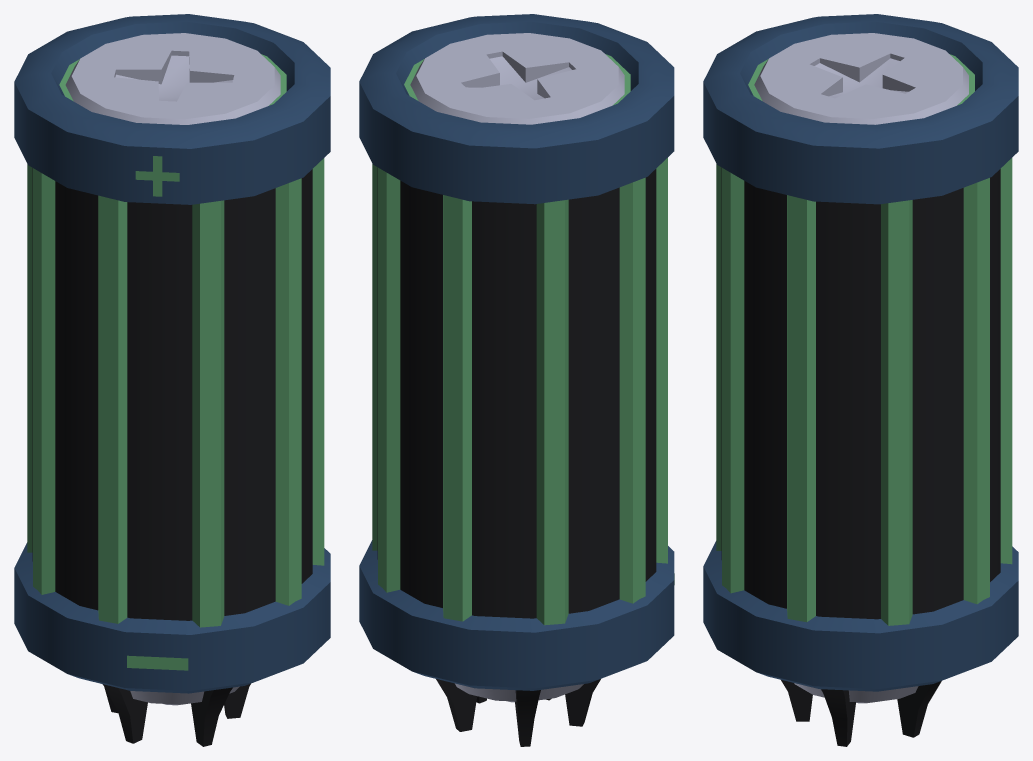
File: Misc_Battery.glb
The picture shows the model from 3 angles, left to right: view 1: azimuth 30°, elevation 25°; view 2: azimuth 150°, elevation 25°; view 3: azimuth 270°, elevation 25°; orthographic projection.
Parts seen in each view (by area): view 1: Misc_Battery.001; view 2: Misc_Battery.001; view 3: Misc_Battery.001.
Part boxes in pixels (x1,y1,x2,y2): Misc_Battery.001: (14,14,330,746); Misc_Battery.001: (359,14,674,746); Misc_Battery.001: (703,14,1018,746).
Size of the model in its own units: 0.0623 by 0.1402 by 0.062.
